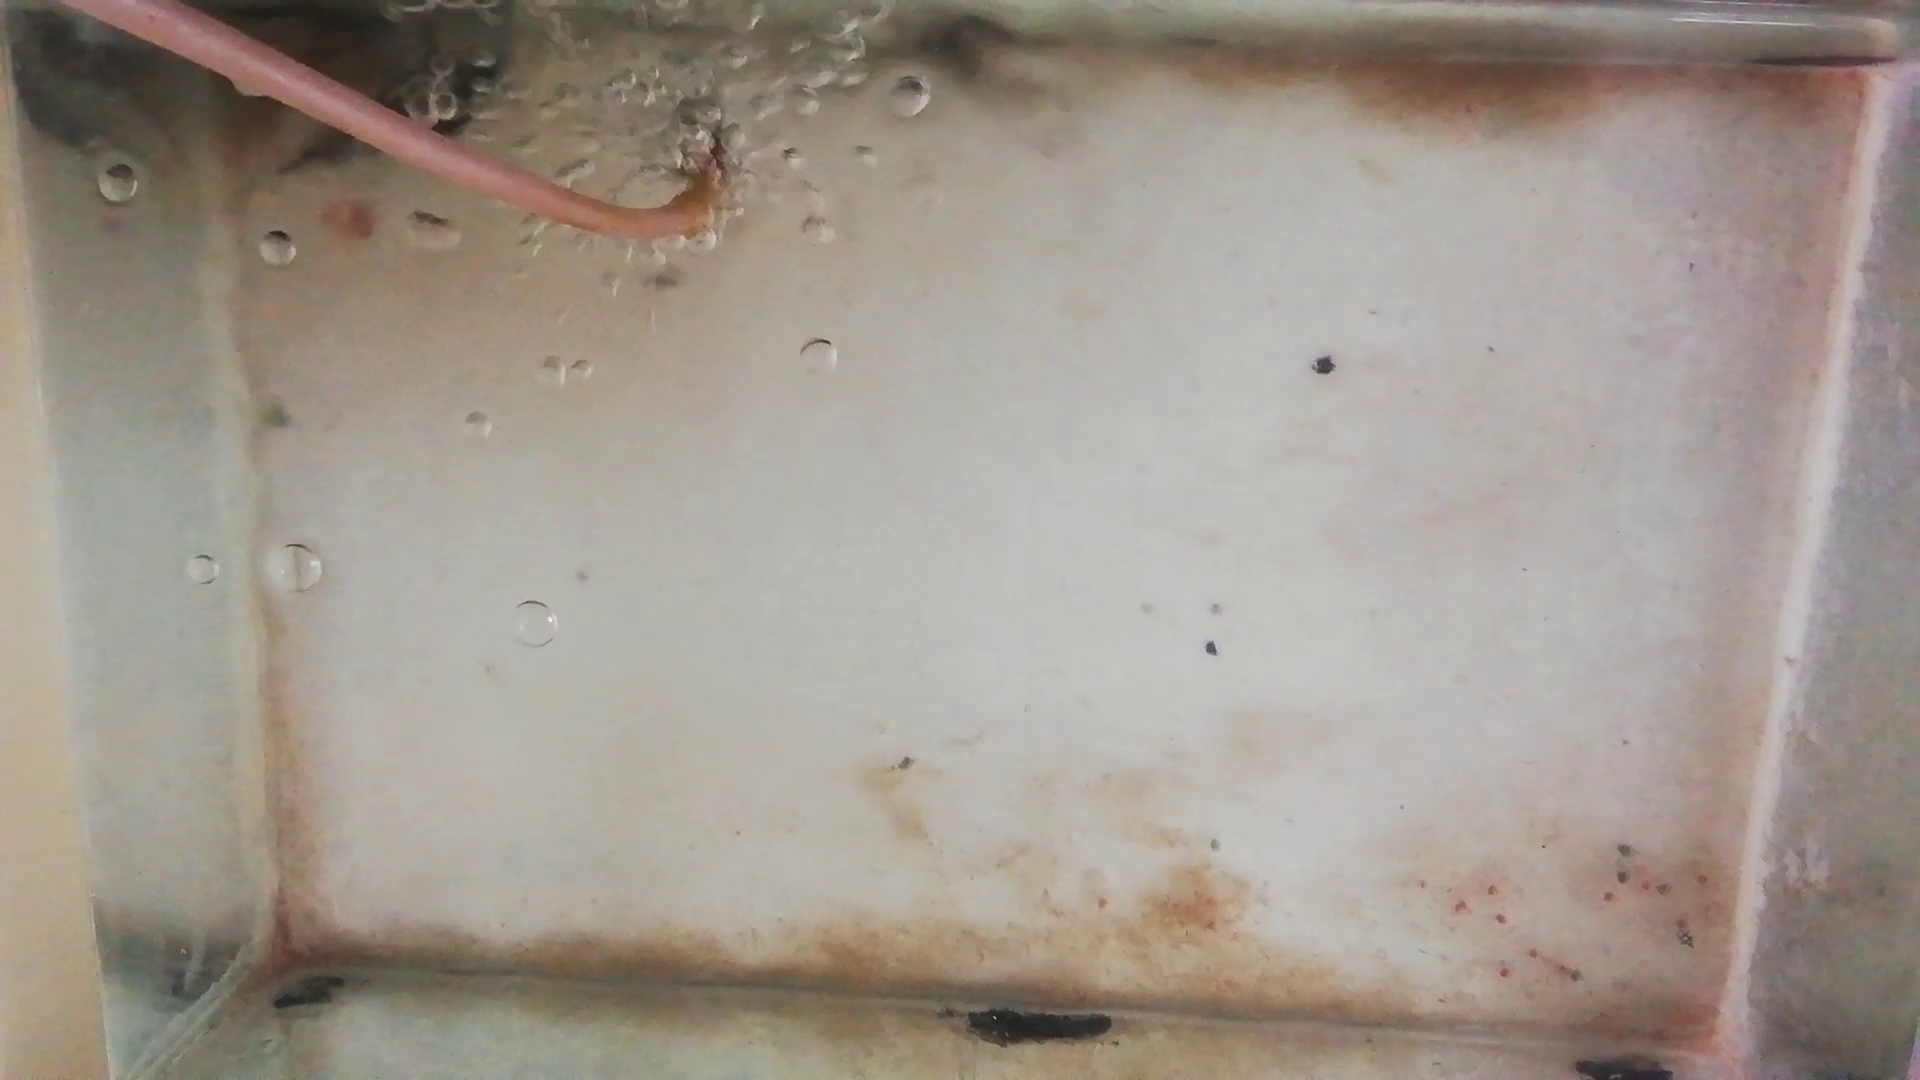fish: (290, 66, 480, 164)
